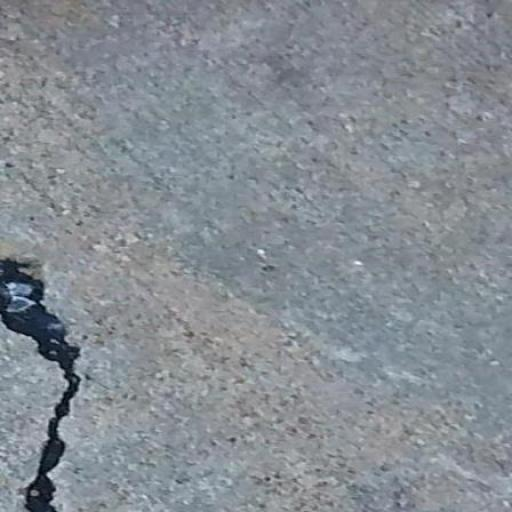spalling: (4, 246, 89, 508)
